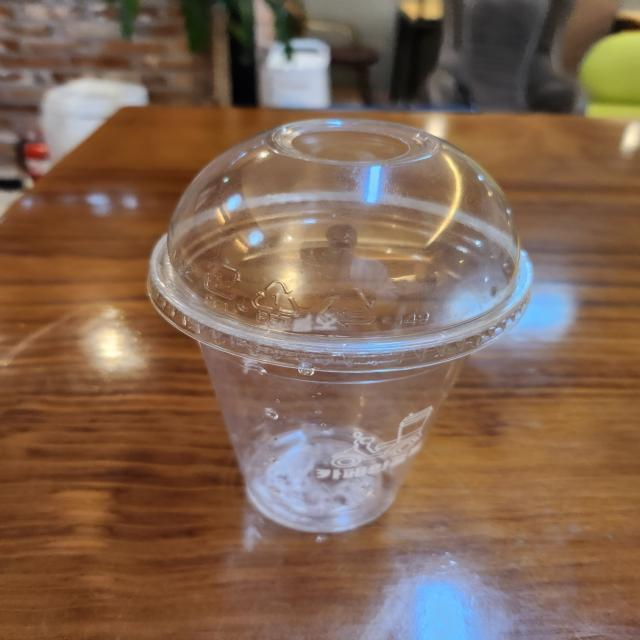plastic_cup_lid: (142, 110, 528, 372)
